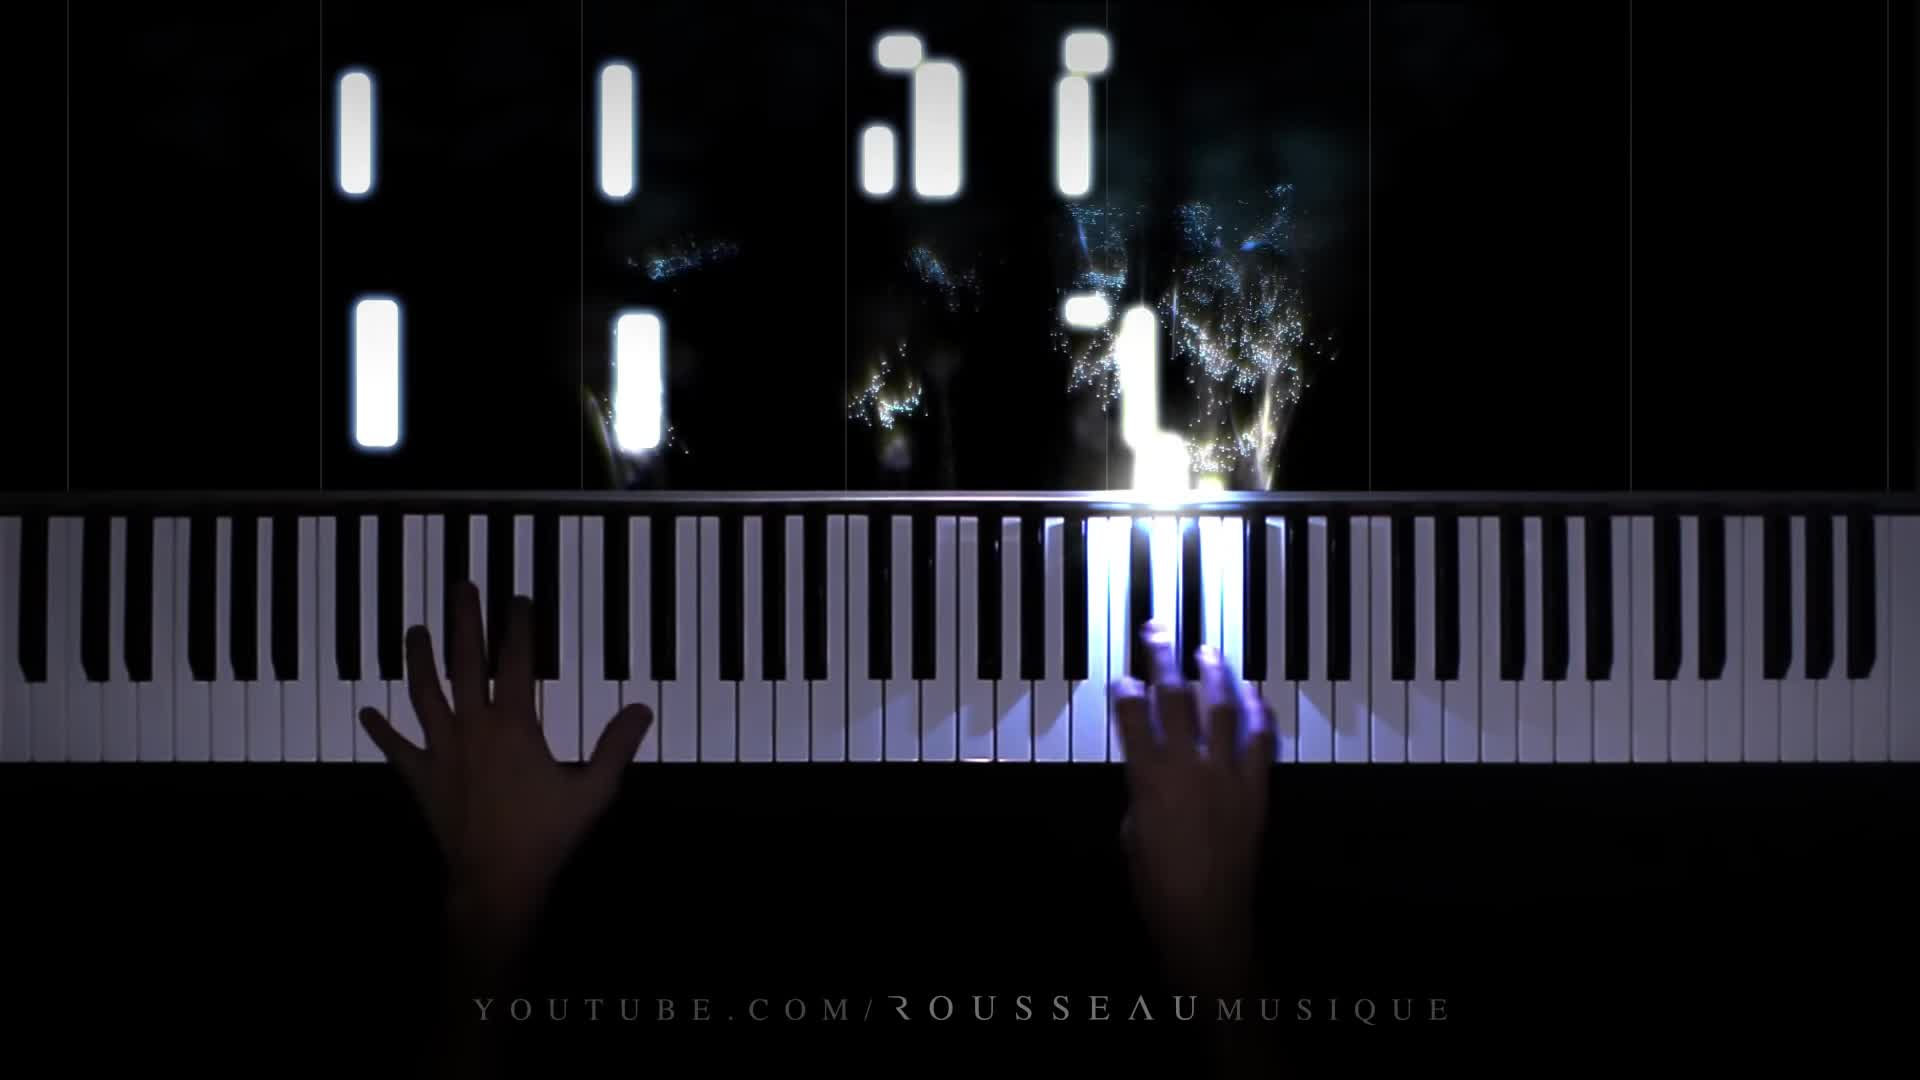left: (355, 576, 655, 884)
right: (1091, 613, 1287, 891)
